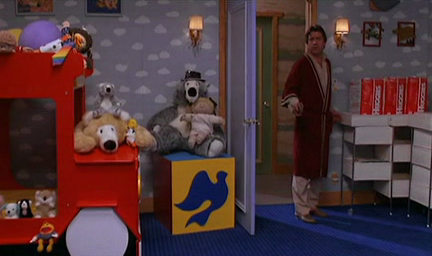face: (308, 31, 322, 54)
ls: (1, 1, 432, 256)
person: (281, 24, 343, 223)
